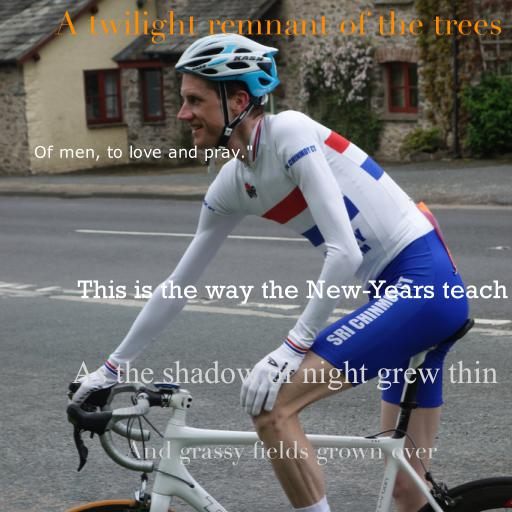Didot: (55, 10, 503, 44), (125, 440, 437, 466)
Rockwell: (76, 280, 508, 304)
Times New Roman: (72, 360, 498, 390)
Verdana: (33, 145, 253, 161)
